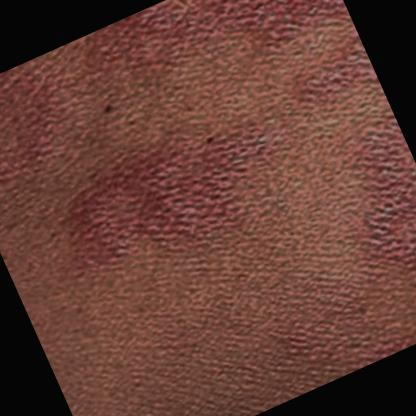Leprosy: (39, 97, 310, 296), (318, 112, 416, 303)
